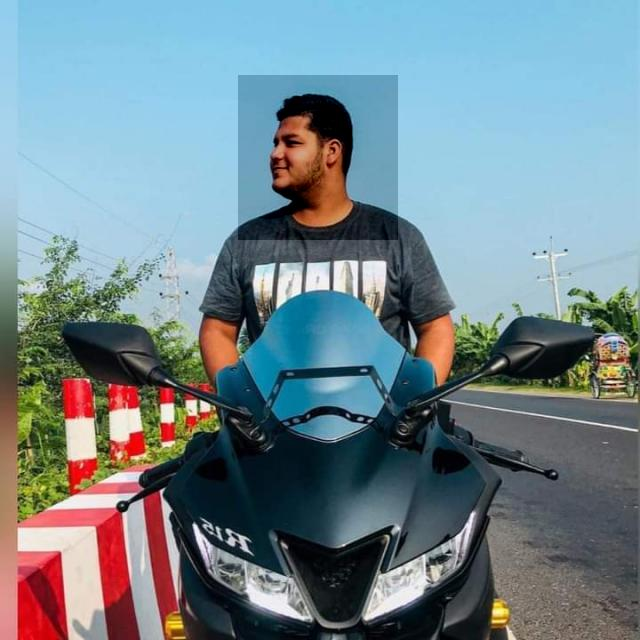No_Helmet: (238, 75, 398, 240)
